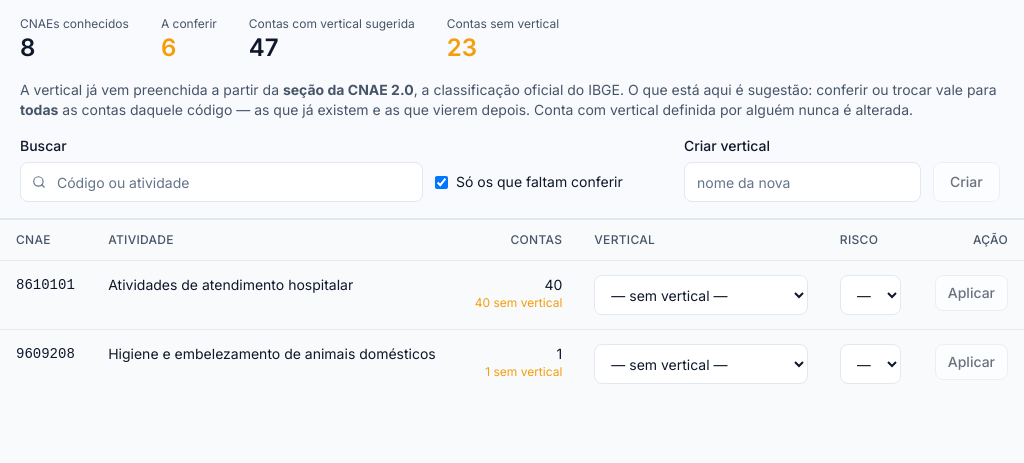
Test: DeParaCnaes › classificar aplica nas contas que já existem
Check: the text "Atividades de atendimento hospitalar" is shown, box [108,276,353,293]
Step 1. Select "Indústria" in the dropdown named "Vertical do CNAE 8610101" → (701, 295), box [594,275,808,315]
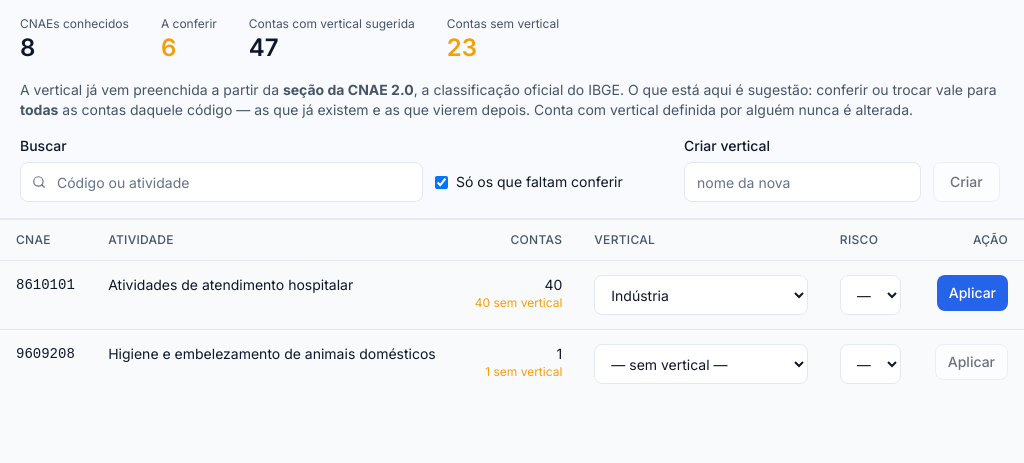
Step 2. Select "3" in the dropdown named "Grau de risco do CNAE 8610101" → (870, 295), box [840,275,901,315]
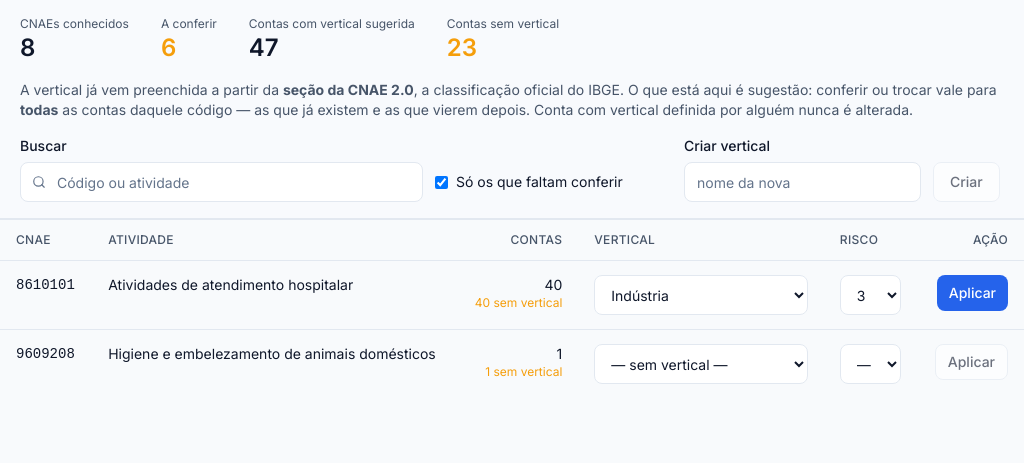
Step 3. Click the button "Aplicar" in the row of "8610101" → (972, 293), box [937,275,1008,311]
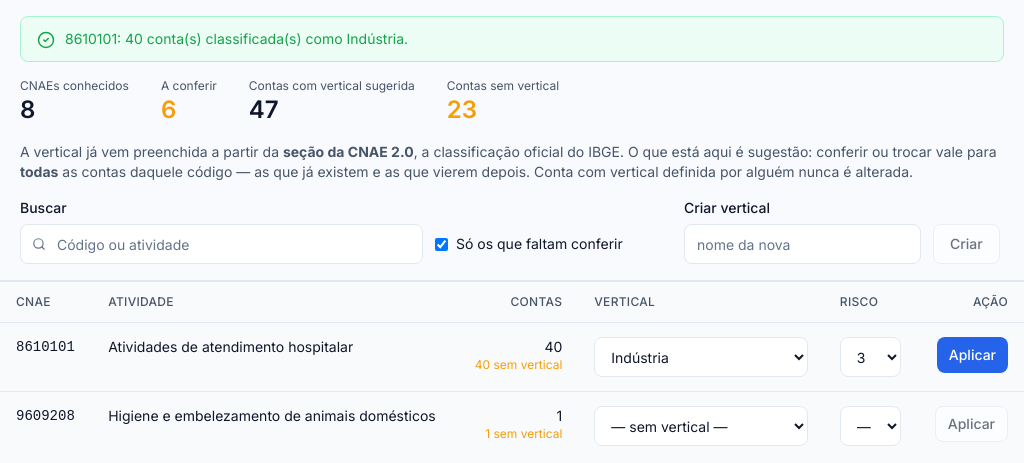
Check: the text "8610101: 40 conta(s) classificada(s) como Indústria." is shown, box [65,30,408,47]
